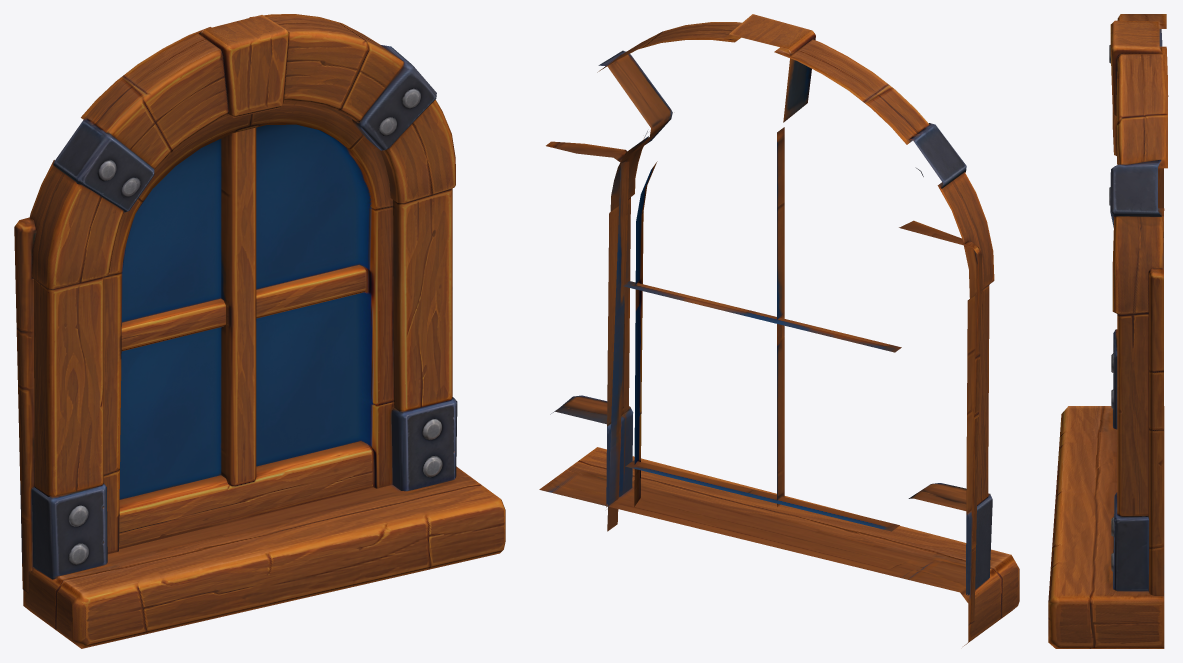
The model's file is cabin_window.glb.
3 renders of one model, left to right at view 1: azimuth 30°, elevation 25°; view 2: azimuth 150°, elevation 25°; view 3: azimuth 270°, elevation 25°, orthographic. The views are drawn at different scales.
Parts seen in each view (by area): view 1: tripo_104199bc_c65a_42cf_ae7e_987db158e1c9; view 2: tripo_104199bc_c65a_42cf_ae7e_987db158e1c9; view 3: tripo_104199bc_c65a_42cf_ae7e_987db158e1c9.
Part boxes in pixels (left/top/right/bottom): tripo_104199bc_c65a_42cf_ae7e_987db158e1c9: left=14, top=14, right=505, bottom=648; tripo_104199bc_c65a_42cf_ae7e_987db158e1c9: left=539, top=14, right=1019, bottom=646; tripo_104199bc_c65a_42cf_ae7e_987db158e1c9: left=1048, top=14, right=1168, bottom=648.
Size of the model in its own units: 0.8306 by 0.9995 by 0.2104.
Materials: 1 (1 with a texture image).
